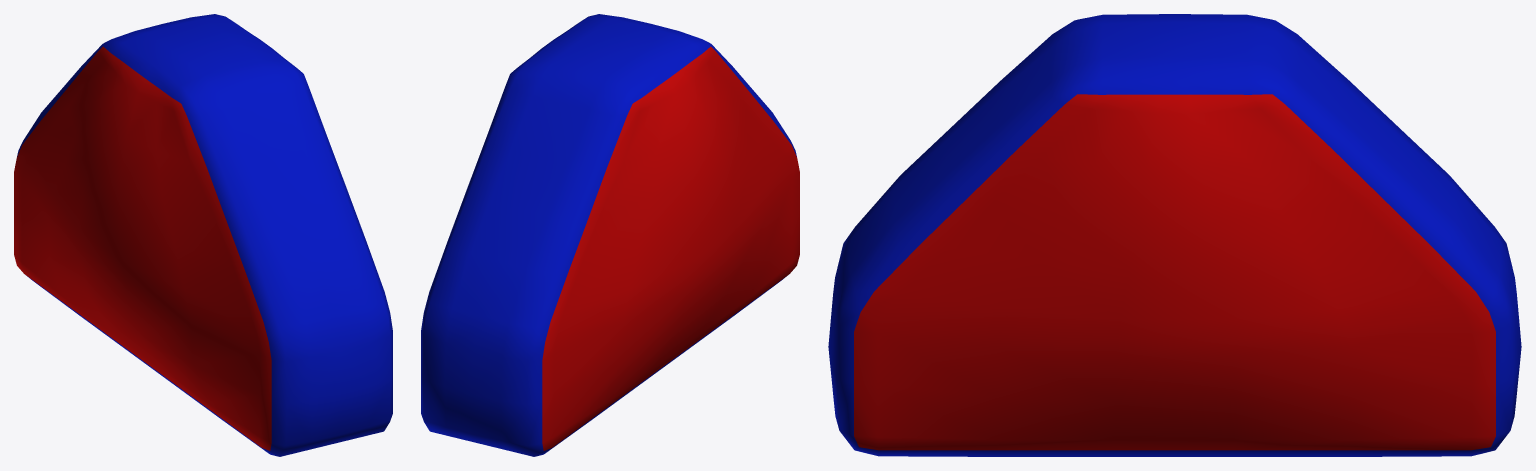
File: Mini-Race-Webview.glb
3 renders of one model, left to right at view 1: azimuth 30°, elevation 25°; view 2: azimuth 150°, elevation 25°; view 3: azimuth 270°, elevation 25°, orthographic. The views are drawn at different scales.
Visible parts, largest first — view 1: Mini-Race; view 2: Mini-Race; view 3: Mini-Race.
Boxes of the visible parts, x1=… form: Mini-Race: x1=14, y1=14, x2=392, y2=456; Mini-Race: x1=421, y1=14, x2=799, y2=456; Mini-Race: x1=828, y1=14, x2=1521, y2=456.
Size of the model in its own units: 0.8668 by 1.28 by 2.02.
